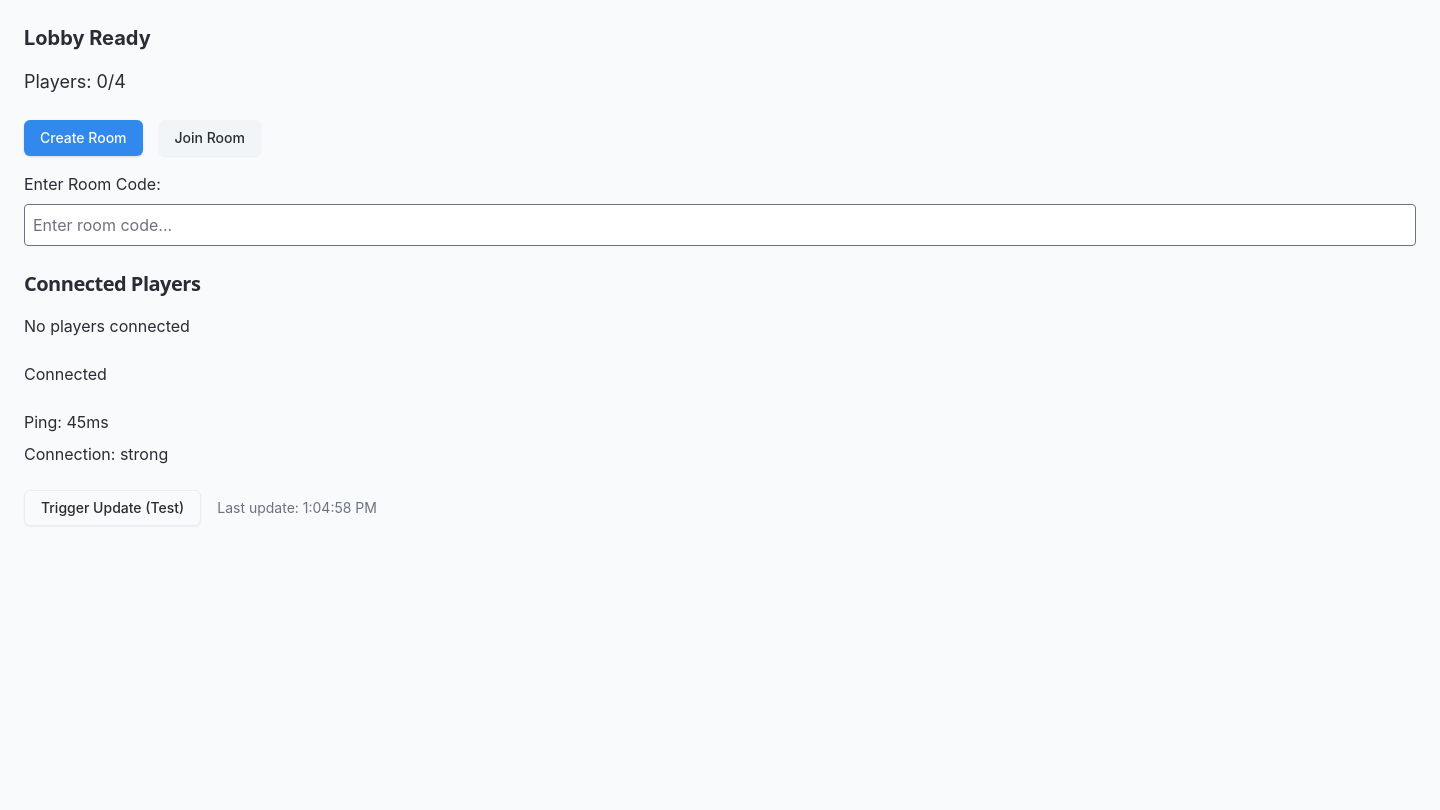
Multiplayer Integration Tests (TDD CYCLE 4 GREEN Phase) › Phase GREEN - Tests qui doivent maintenant passer › should handle room creation and display room code
The image size is (1440, 810).
Click the button with test id "create-room-button" at (83, 138), box top-left (24, 120), bottom-right (142, 156)
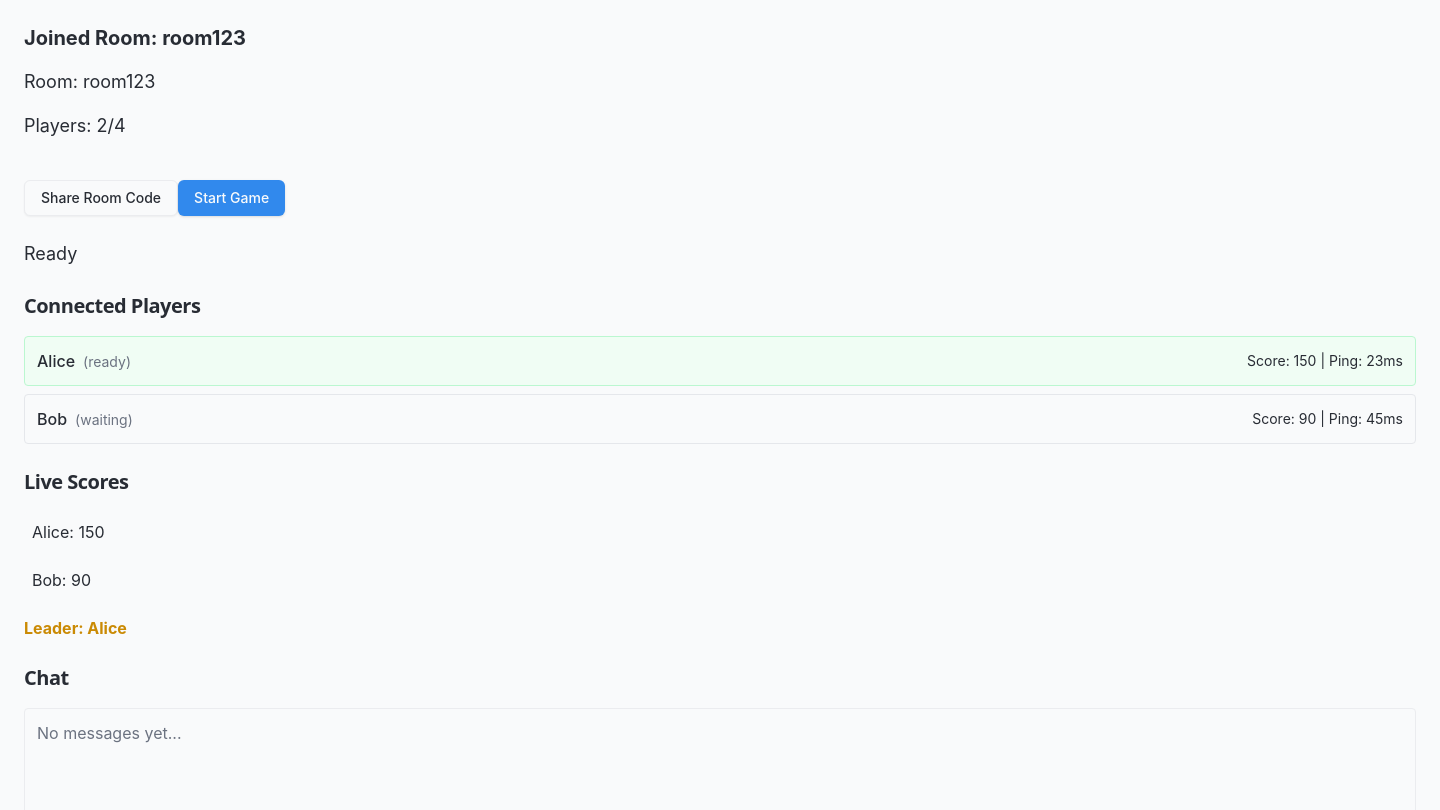
Check: the text with test id "room-code-display" reads "Room: room123", box top-left (24, 71), bottom-right (156, 92)
Check: the button with test id "share-room-button" is shown, box top-left (24, 180), bottom-right (178, 216)
Check: the text with test id "lobby-status" reads "Joined Room: room123", box top-left (24, 26), bottom-right (246, 50)
